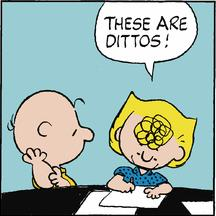charlie: (7, 88, 96, 188)
